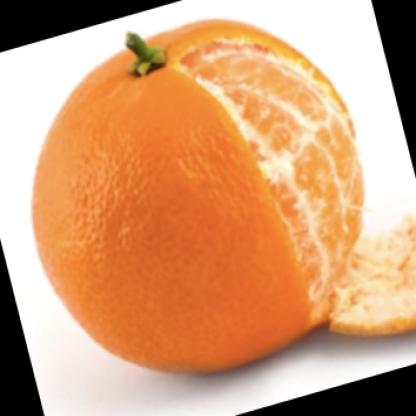fresh: (32, 19, 368, 377)
